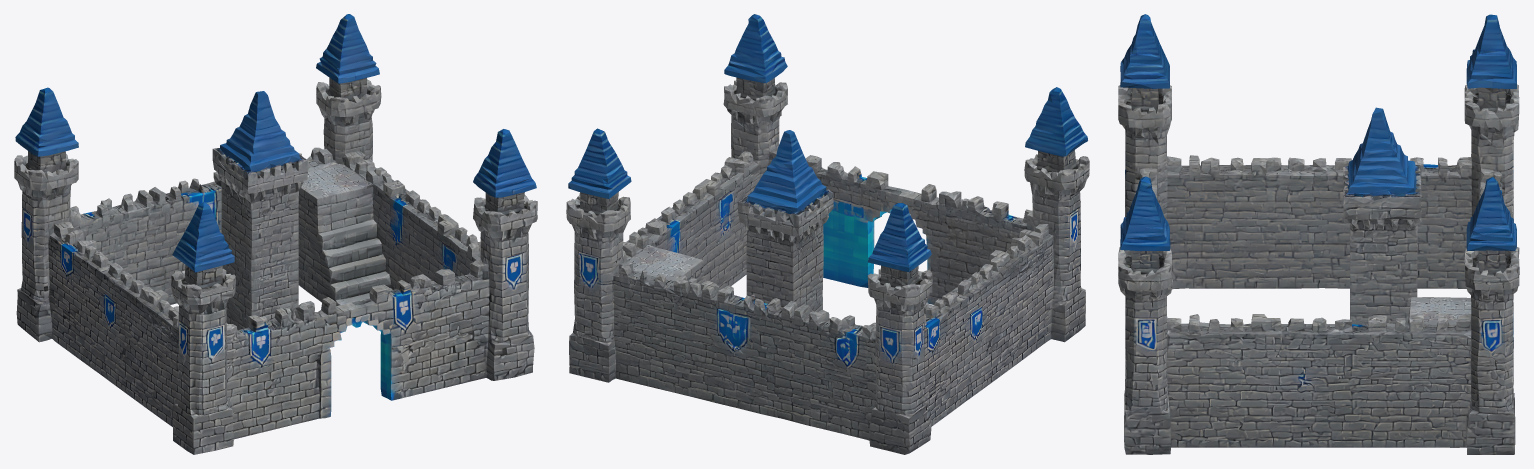
The model's file is compound_blue.glb.
3 renders of one model, left to right at view 1: azimuth 30°, elevation 25°; view 2: azimuth 150°, elevation 25°; view 3: azimuth 270°, elevation 25°, orthographic. The views are drawn at different scales.
Visible parts, largest first — view 1: Mesh; view 2: Mesh; view 3: Mesh.
Boxes of the visible parts, box(x1,y1,x2,y2) form: Mesh: box(14, 14, 537, 454); Mesh: box(566, 14, 1089, 454); Mesh: box(1118, 14, 1519, 454).
Bounding box in the file's own units: 1.9 × 1.25 × 1.7.
Materials: 1 (1 with a texture image).
